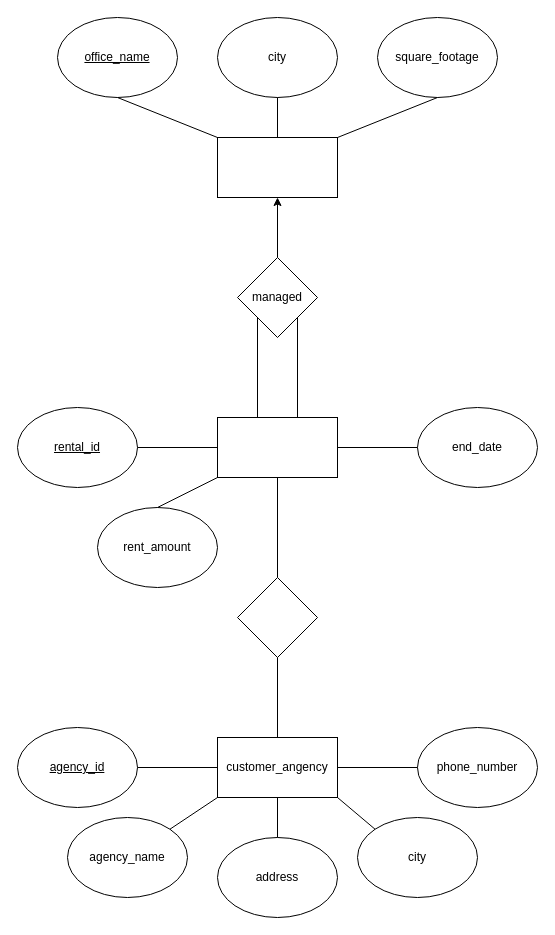
This 555x935 diagram has some shape labels left out. Here are the shapes that lost their labels. From the top down, the centre of each, then its label:
point 277,167: Office
point 277,447: rental_agreement
point 277,617: party
